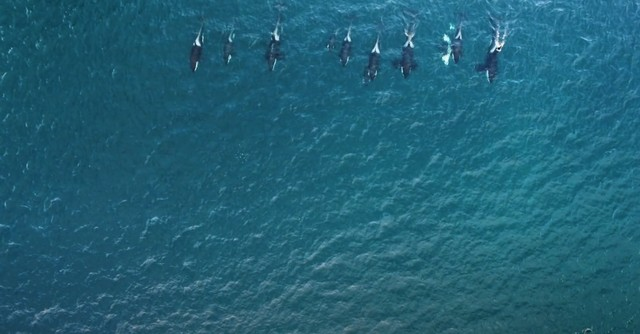whale: (258, 6, 292, 76), (479, 12, 508, 88), (395, 11, 423, 82), (437, 11, 471, 66), (187, 14, 214, 82), (219, 11, 242, 74), (365, 23, 387, 87), (333, 24, 357, 82), (318, 25, 341, 69)
